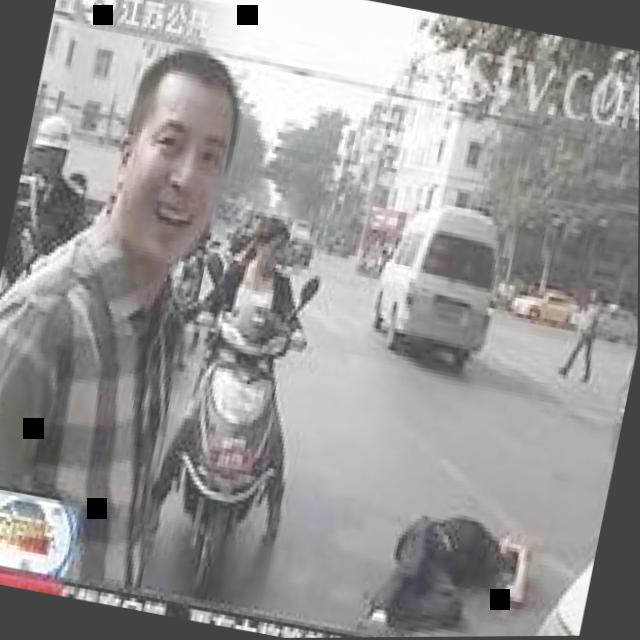Fall-Detected: (349, 473, 551, 638)
